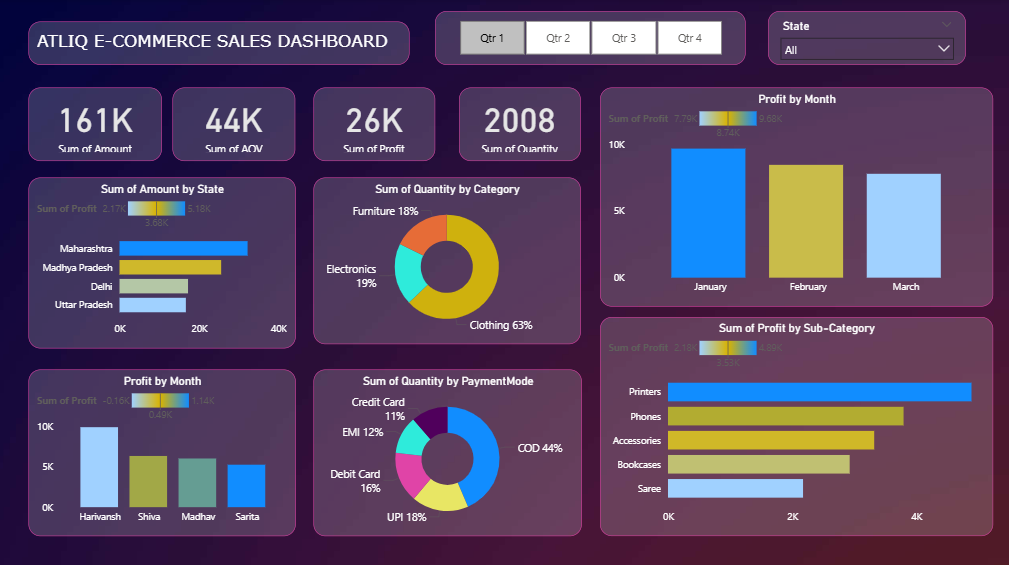

What the dashboard file says about the page in this screenshot:
{"tool":"powerbi","page":{"name":"Page 1","canvas":[1280,720],"ordinal":0},"visuals":[{"type":"textbox","box":[39.7,28.3,480,54.8],"z":0},{"type":"columnChart","title":"Profit by Month","fields":{"Y":["Details.Profit"],"Category":["Orders.Order Date.Variation.Date Hierarchy.Month"]},"box":[759.7,111.5,495.1,275.9],"z":1000},{"type":"barChart","fields":{"Category":["Details.Sub-Category"],"Y":["Details.Profit"]},"box":[759.7,400.6,495.1,275.9],"z":2000},{"type":"donutChart","fields":{"Category":["Details.Category"],"Y":["Details.Quantity"]},"box":[398.7,224.9,336.4,209.8],"z":3000},{"type":"donutChart","fields":{"Y":["Details.Quantity"],"Category":["Details.PaymentMode"]},"box":[398.7,466.8,338.3,209.8],"z":4000},{"type":"card","fields":{"Values":["Details.Amount"]},"box":[39.7,111.5,168.2,92.6],"z":5000},{"type":"card","fields":{"Values":["Details.Quantity"]},"box":[582.1,111.5,153.1,92.6],"z":6000},{"type":"card","fields":{"Values":["Details.Profit"]},"box":[398.7,111.5,153.1,92.6],"z":7000},{"type":"card","fields":{"Values":["Details.AOV"]},"box":[221.1,111.5,155,92.6],"z":8000},{"type":"barChart","fields":{"Y":["Details.Amount"],"Category":["Orders.State"]},"box":[39.7,224.9,336.4,215.4],"z":9000},{"type":"columnChart","title":"Profit by Month","fields":{"Category":["Orders.CustomerName"],"Y":["Details.Amount"]},"box":[39.7,466.8,336.4,209.8],"z":10000},{"type":"slicer","fields":{"Values":["Orders.Order Date.Variation.Date Hierarchy.Quarter"]},"box":[551.8,15.1,391.2,68],"z":11000},{"type":"slicer","fields":{"Values":["Orders.State"]},"box":[971.3,15.1,249.5,68],"z":12000}]}

Visuals, with their boxes in screenshot pixels (x1, y1, x2, y2), scaled from the page's 1280x720 canvas onto the 1009x565 screenshot:
textbox: rect(31, 22, 410, 65)
"Profit by Month" columnChart: rect(599, 87, 989, 304)
barChart - Details.Sub-Category x Details.Profit: rect(599, 314, 989, 531)
donutChart - Details.Category x Details.Quantity: rect(314, 176, 579, 341)
donutChart - Details.Quantity x Details.PaymentMode: rect(314, 366, 581, 531)
card - Details.Amount: rect(31, 87, 164, 160)
card - Details.Quantity: rect(459, 87, 580, 160)
card - Details.Profit: rect(314, 87, 435, 160)
card - Details.AOV: rect(174, 87, 296, 160)
barChart - Details.Amount x Orders.State: rect(31, 176, 296, 346)
"Profit by Month" columnChart: rect(31, 366, 296, 531)
slicer - Orders.Order Date.Variation.Date Hierarchy.Quarter: rect(435, 12, 743, 65)
slicer - Orders.State: rect(766, 12, 962, 65)
